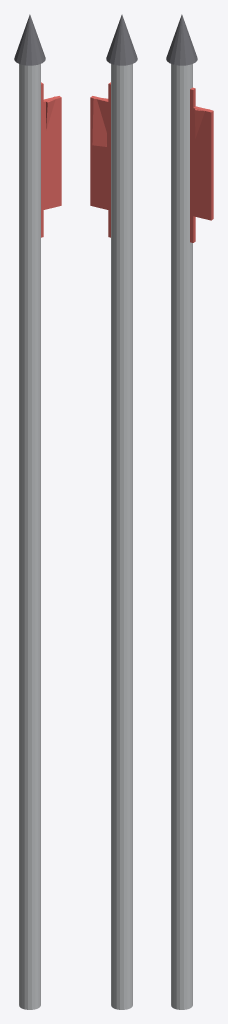
Rendered from flag.glb.
3 views of the same model, side by side, from view 1: azimuth 30°, elevation 25°; view 2: azimuth 150°, elevation 25°; view 3: azimuth 330°, elevation 25° (orthographic).
Parts seen in each view (by area): view 1: CourseFlag; view 2: CourseFlag; view 3: CourseFlag.
Part boxes in pixels (bbox=[...]): CourseFlag: bbox=[14, 14, 61, 1009]; CourseFlag: bbox=[90, 14, 137, 1009]; CourseFlag: bbox=[166, 14, 213, 1009].
Bounding box in the file's own units: 0.103 × 2.2 × 0.064.
